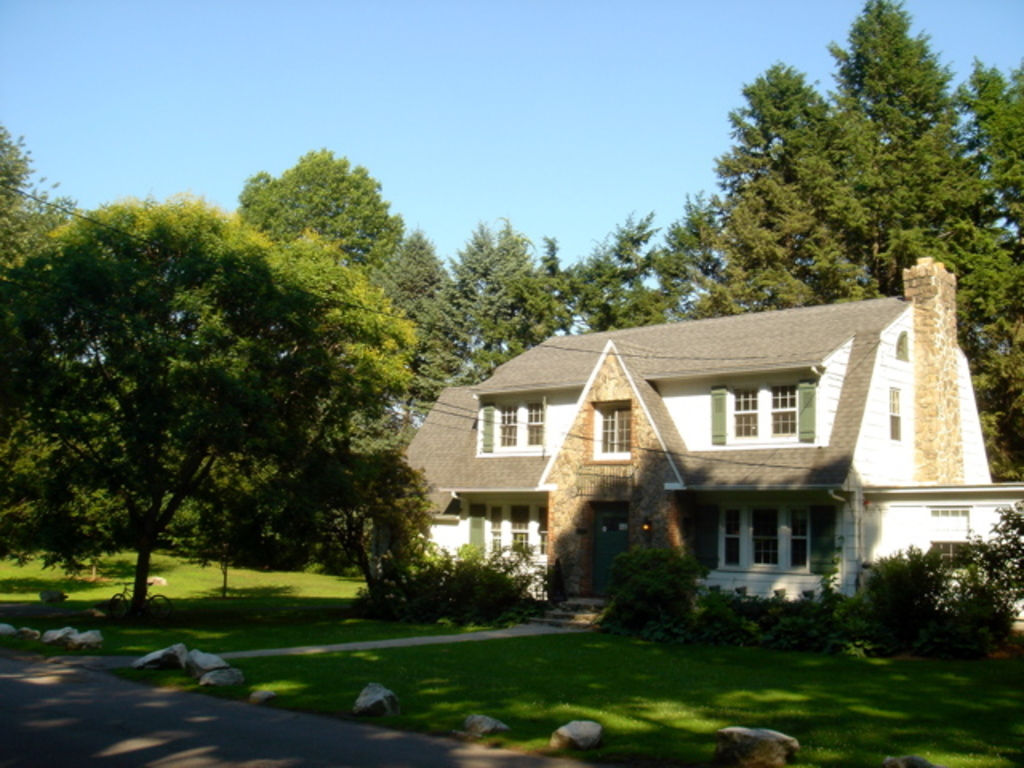Tree: (0, 187, 433, 611), (696, 0, 1022, 478), (231, 139, 430, 435), (430, 219, 689, 398)
